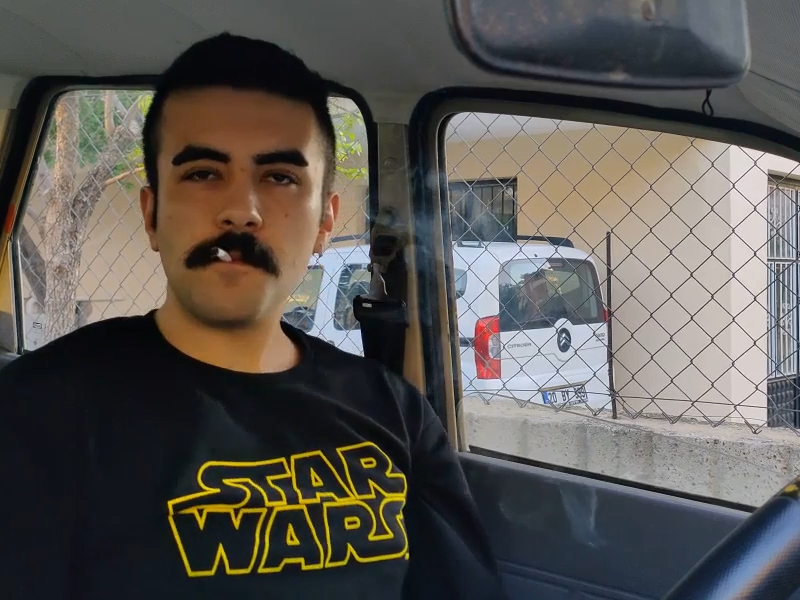sigara: (208, 245, 233, 264)
